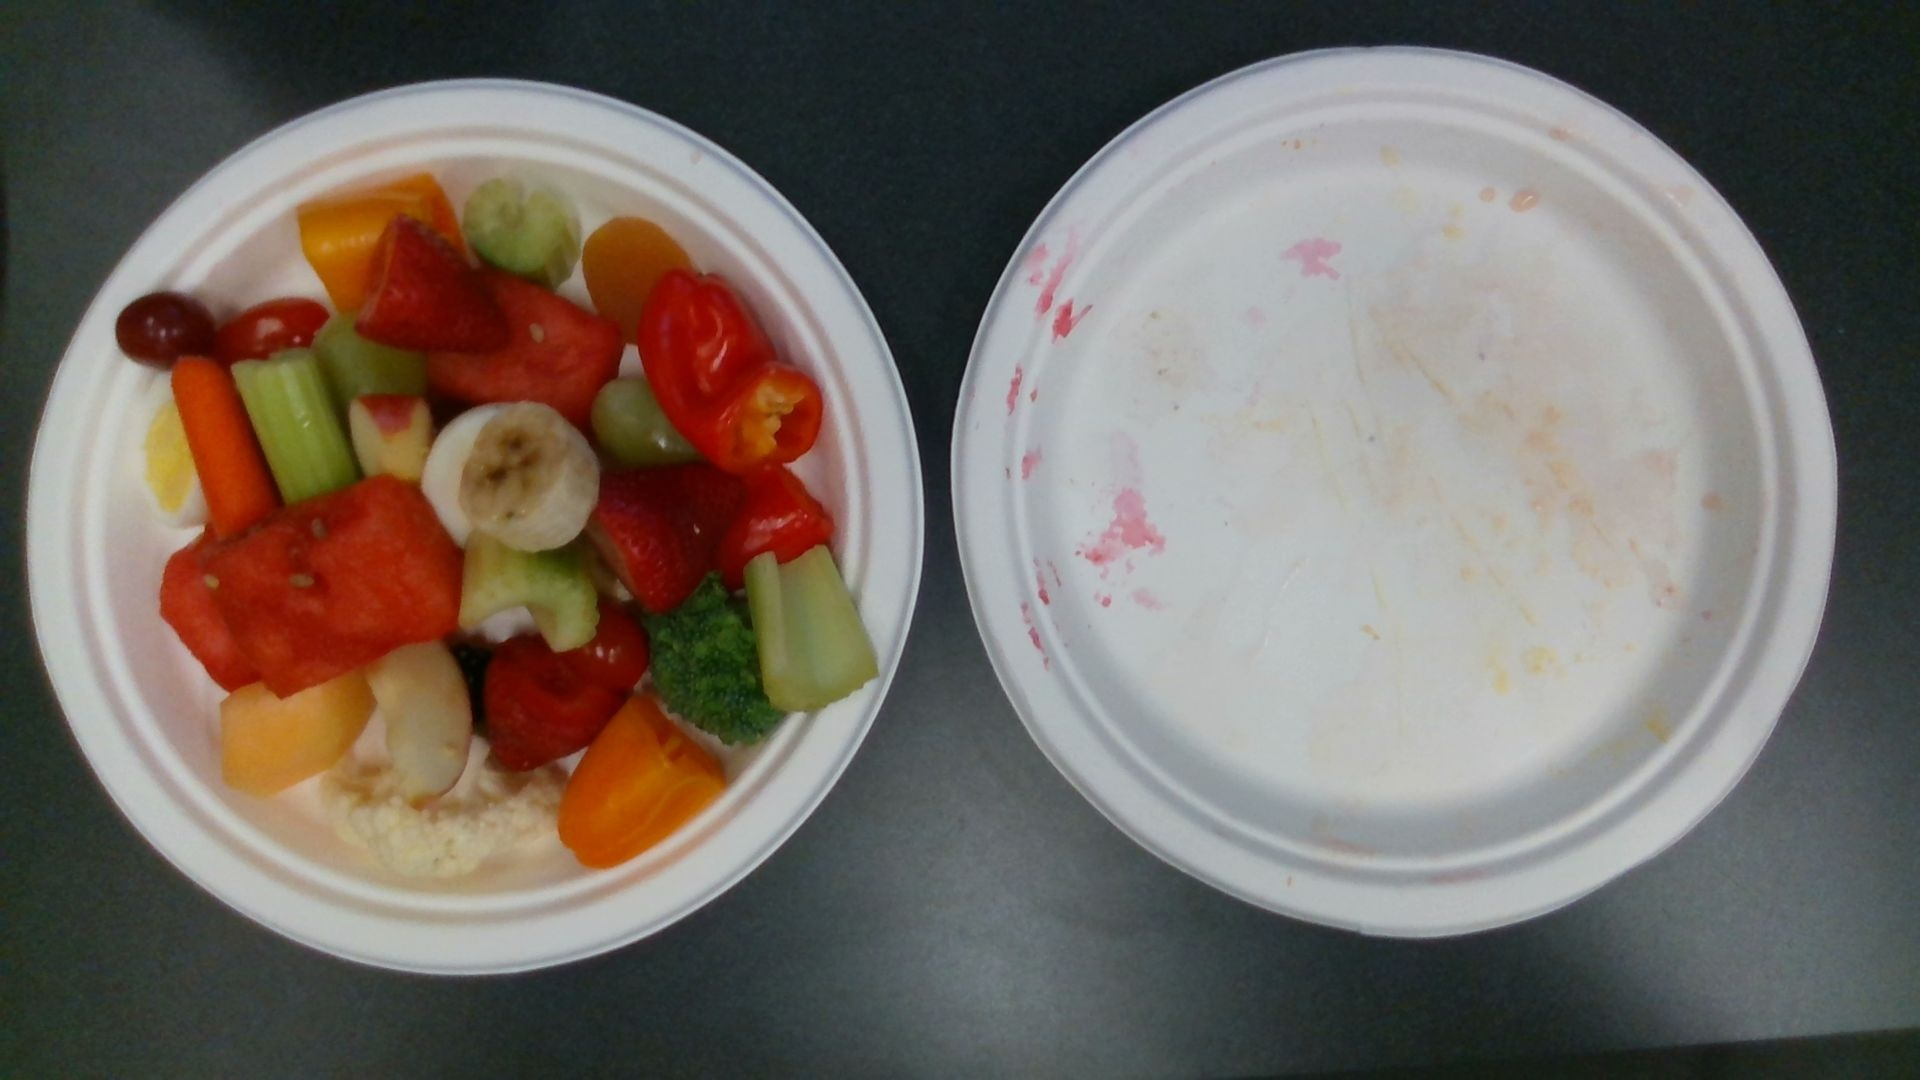apple: (369, 638, 472, 798), (345, 392, 434, 483)
apricot: (582, 216, 695, 335)
banana: (464, 405, 593, 551)
bell_pepper: (637, 276, 822, 469), (560, 695, 727, 868), (299, 175, 469, 309)
broccoli: (651, 578, 789, 742)
cantalope: (220, 673, 375, 789)
carrot: (171, 357, 272, 538)
cauliflower: (320, 764, 567, 885)
celery: (742, 549, 880, 708), (235, 353, 355, 501), (460, 535, 597, 650), (469, 178, 579, 285)
grape_purple: (117, 293, 212, 371)
melon: (208, 480, 465, 690), (425, 280, 620, 419)
strawberry: (353, 216, 505, 355), (587, 471, 744, 603), (484, 636, 615, 767)
